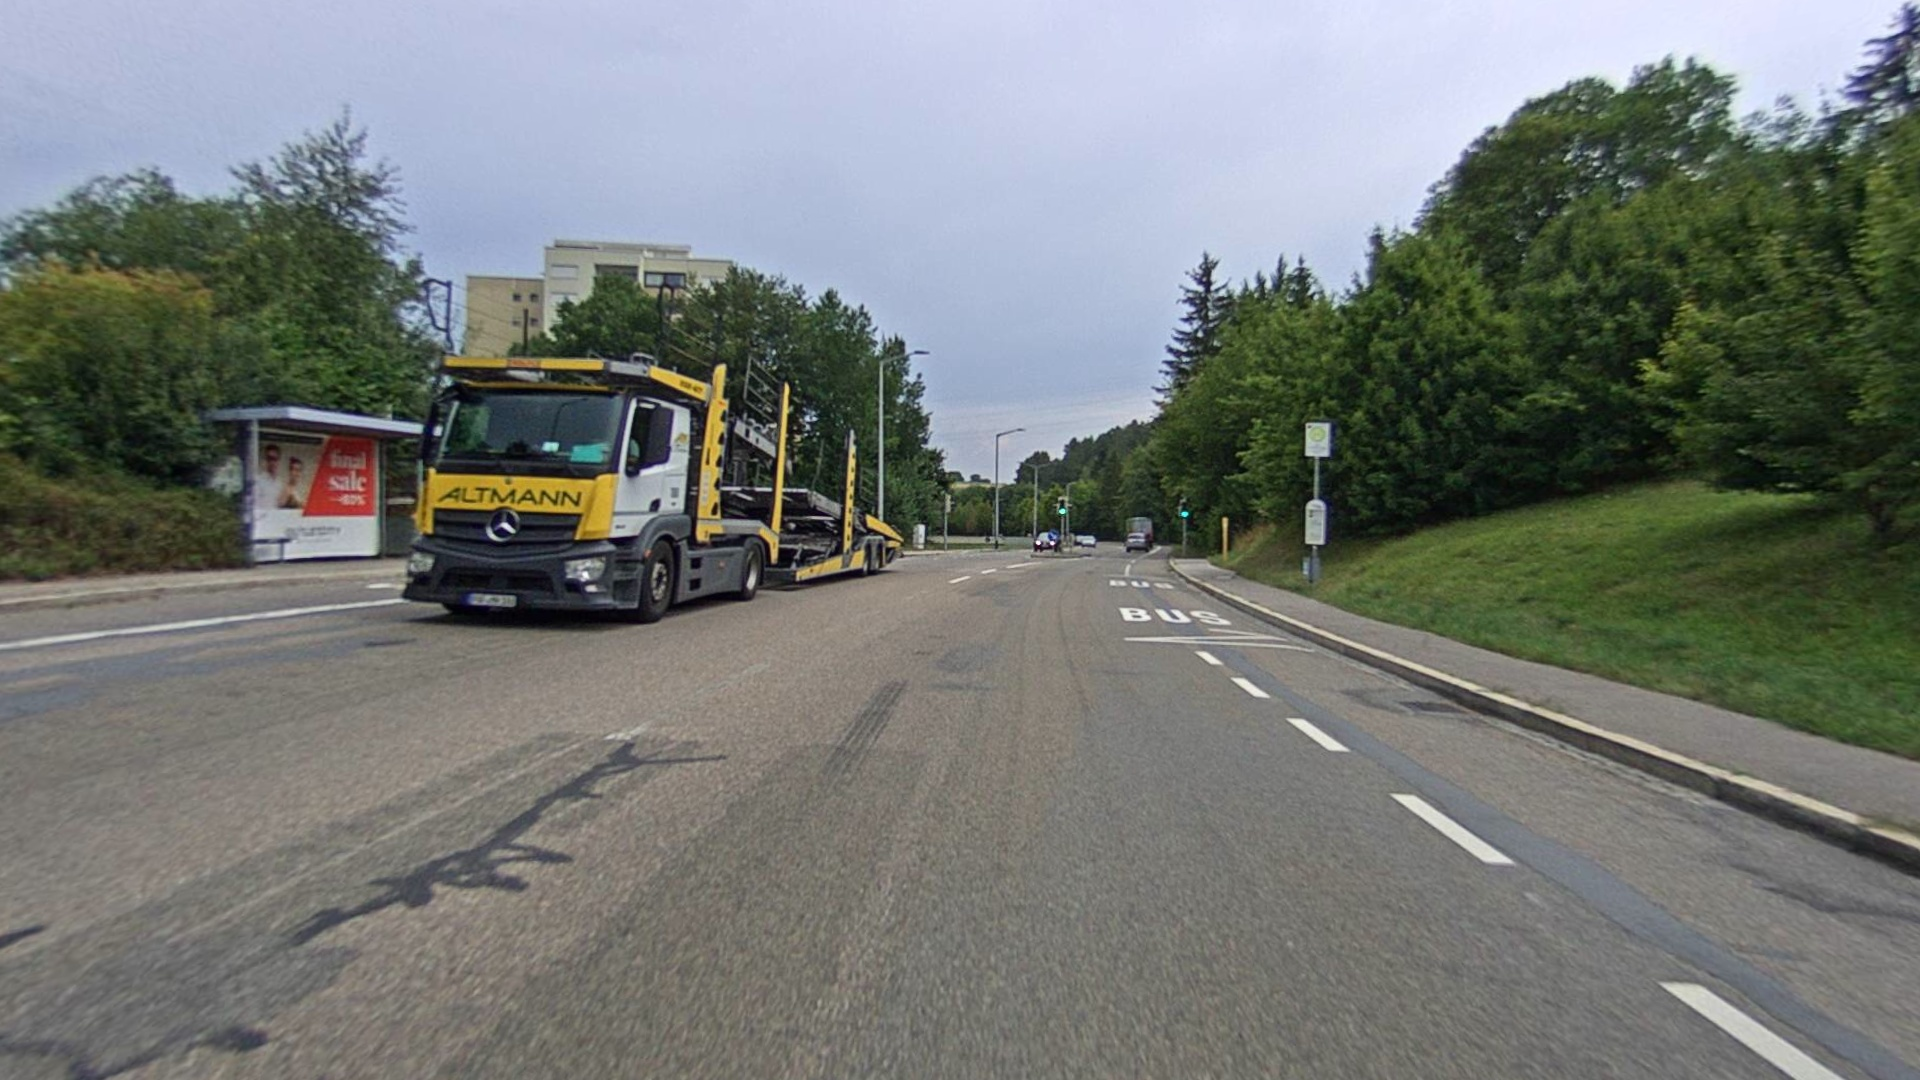truck: (396, 343, 909, 625)
